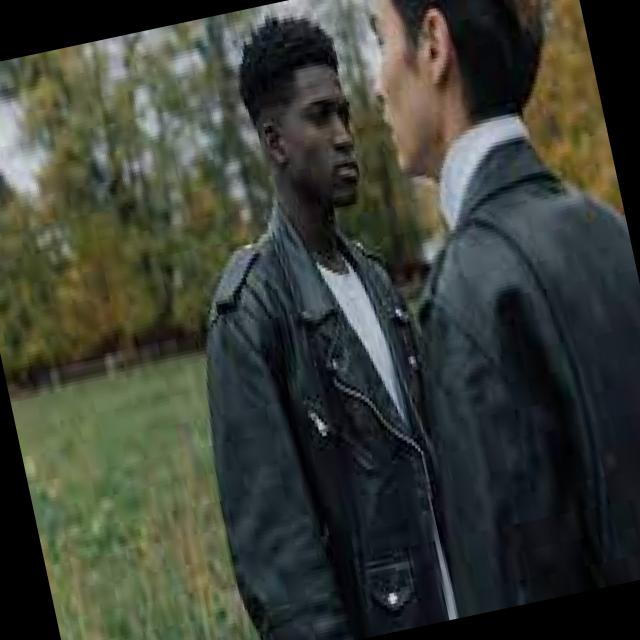Jacket: (154, 211, 487, 640), (376, 146, 640, 596)
